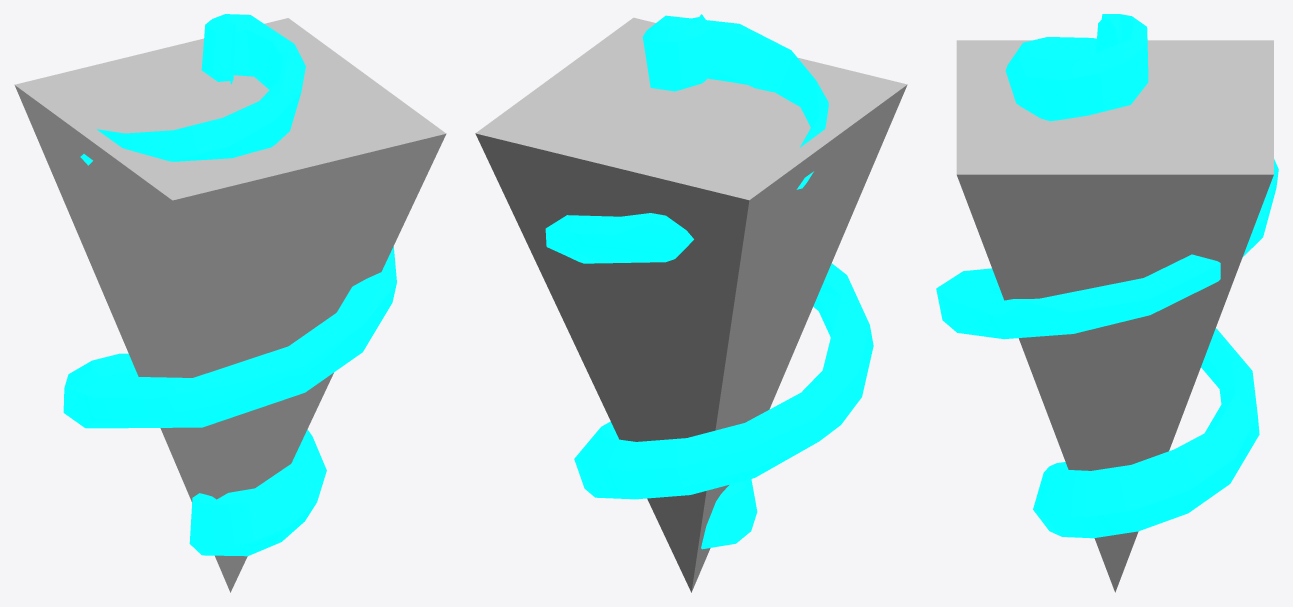
Rendered from Spike.fbx.
The picture shows the model from 3 angles, left to right: view 1: azimuth 30°, elevation 25°; view 2: azimuth 150°, elevation 25°; view 3: azimuth 270°, elevation 25°; orthographic projection.
Parts seen in each view (by area): view 1: Spiral; view 2: Spiral; view 3: Spiral.
Boxes of the visible parts, bbox=[...] form: Spiral: bbox=[14, 14, 446, 592]; Spiral: bbox=[475, 14, 907, 592]; Spiral: bbox=[936, 14, 1278, 592].
Size of the model in its own units: 477 by 893 by 481.
